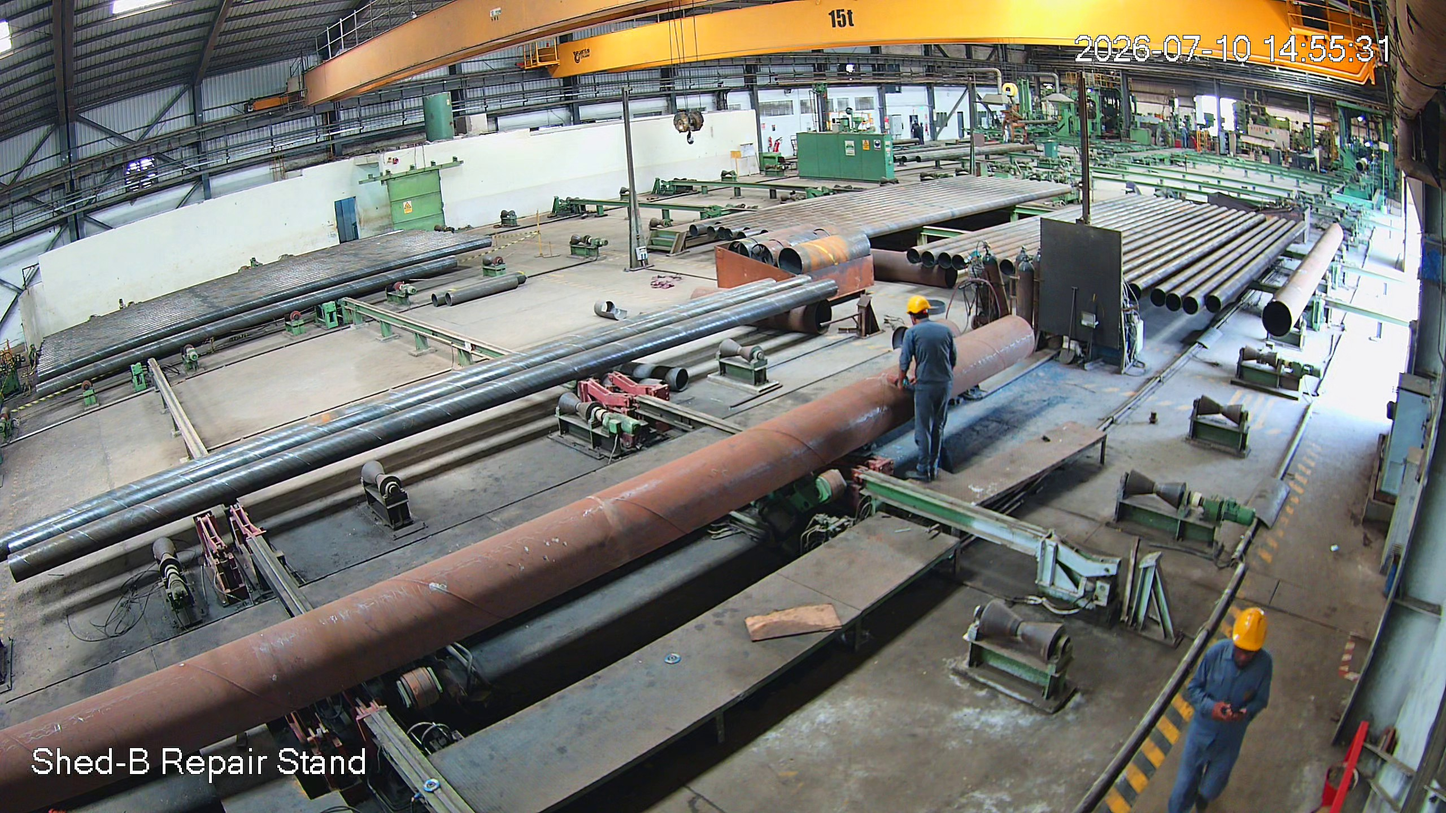Helmet: (1225, 599, 1285, 691), (895, 291, 946, 340)
Person: (1163, 606, 1288, 813), (891, 300, 958, 481)
